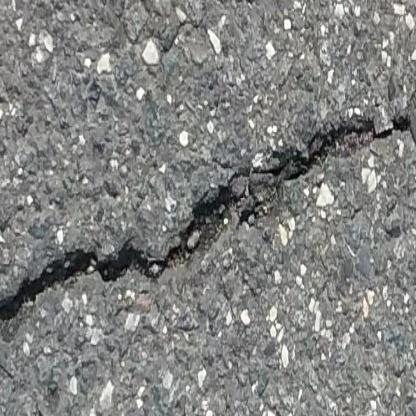Cracks: (0, 92, 416, 368)
